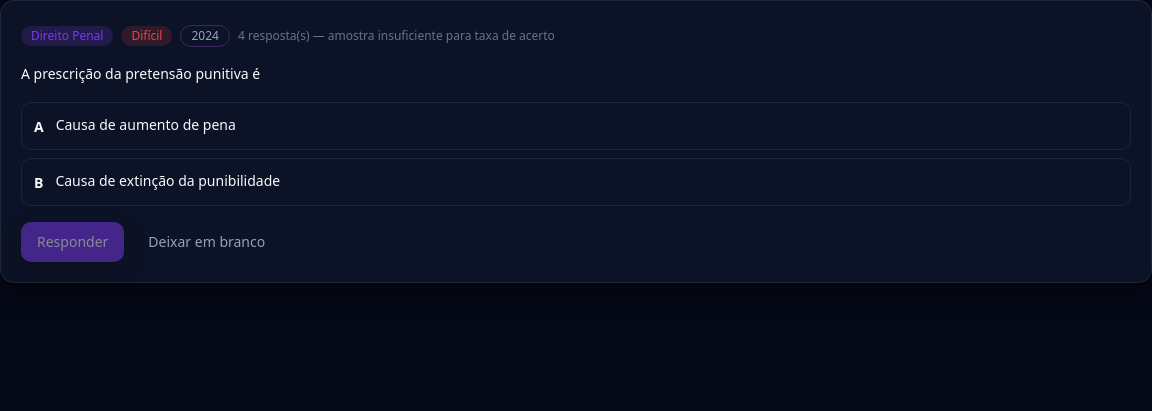
Test: QuestionCard › permite deixar em branco e informa a resposta certa
What coordinates should you click on to do the following:
click the button "Deixar em branco"
I would click on:
 (207, 242)
Its box is x1=132 y1=222 x2=281 y2=262.
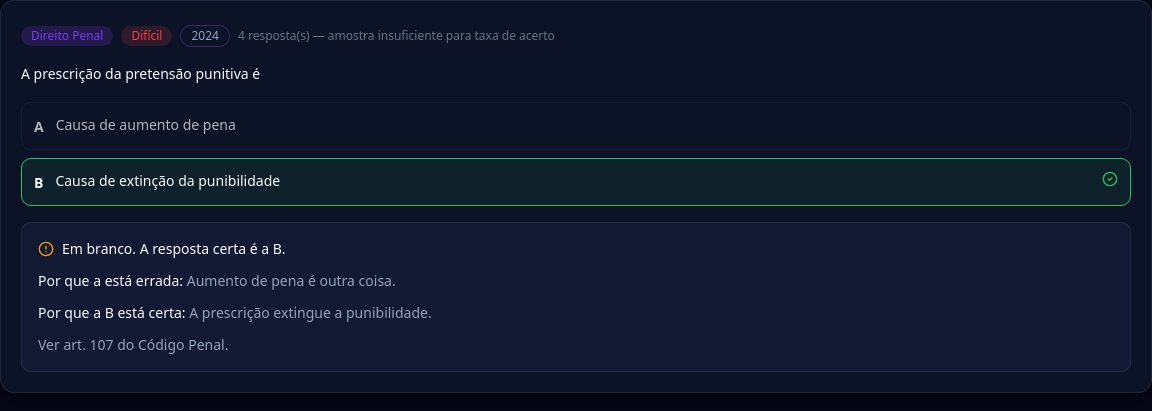
expect the text "Em branco. A resposta certa é a B." is shown: met, box x1=38 y1=239 x2=286 y2=258
